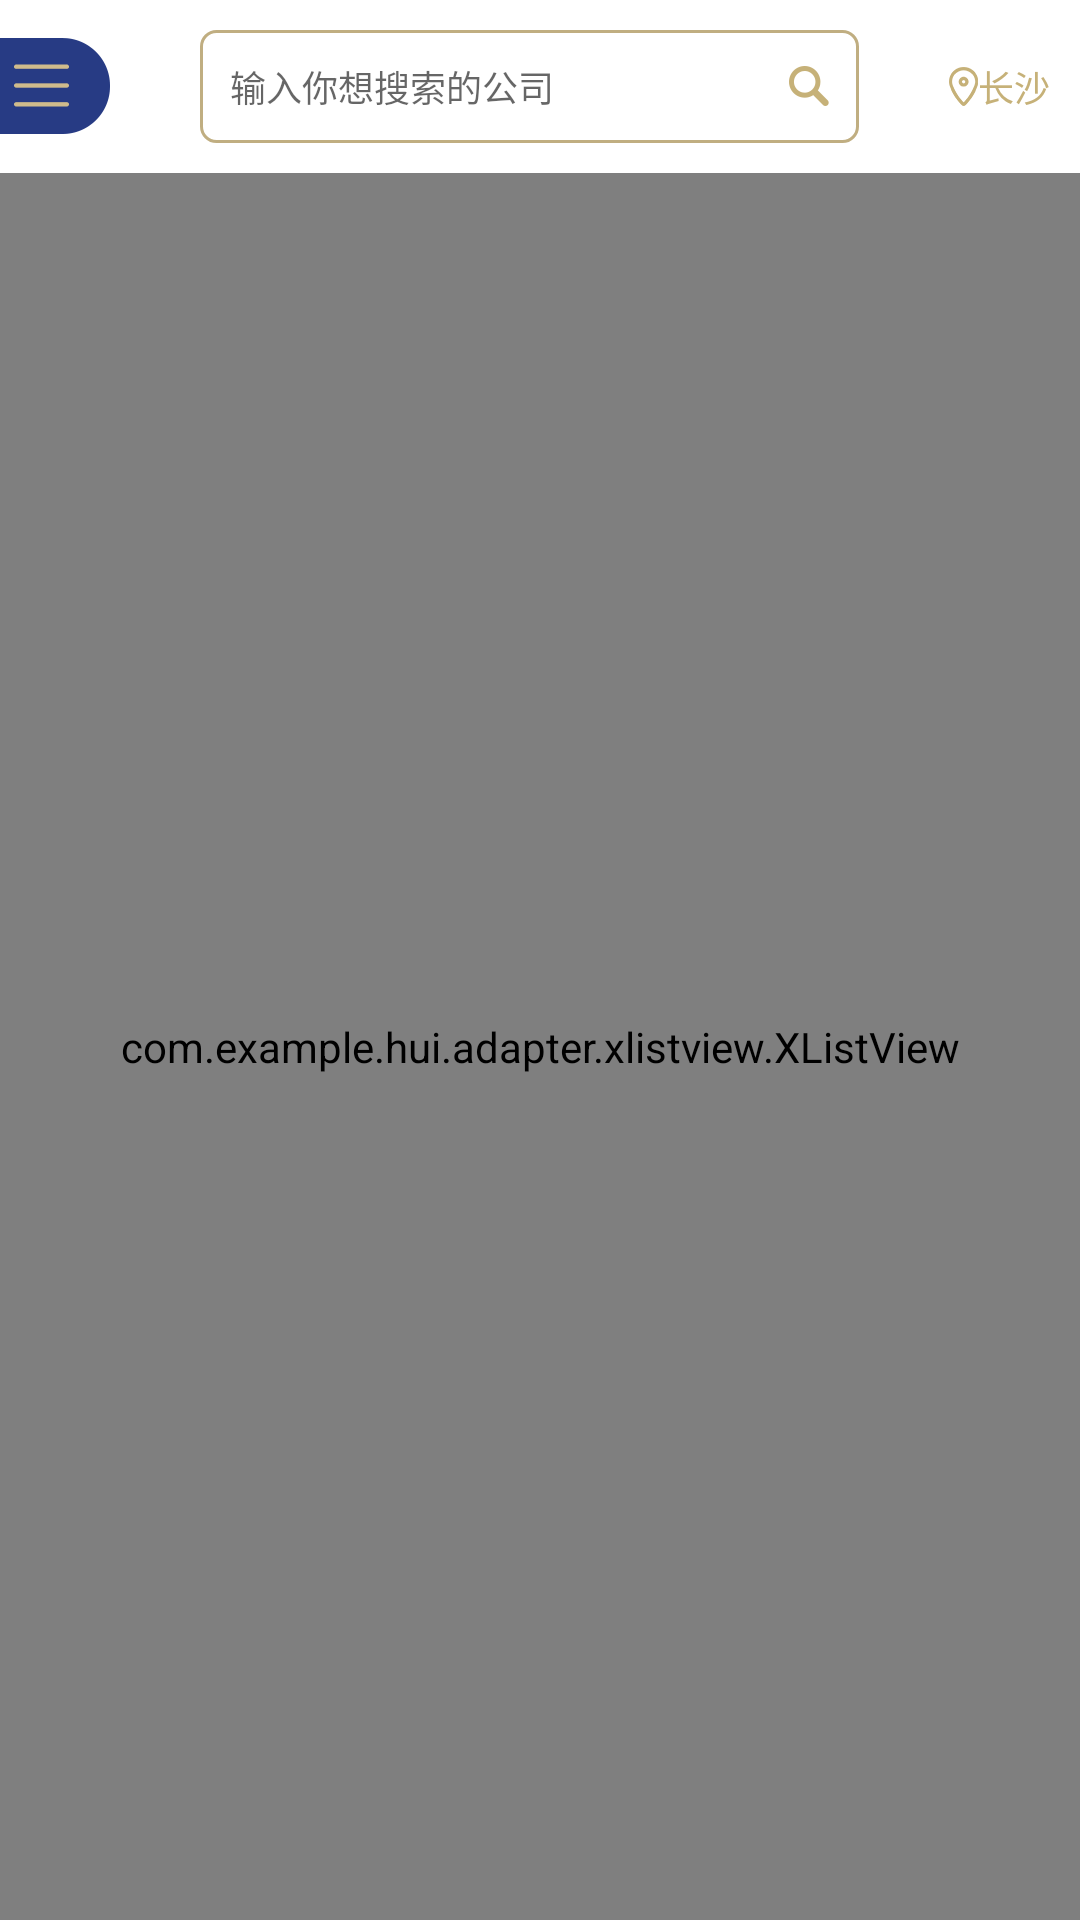

Where icons sit on this 1080px×1920px app screen, as (x1, y1, x2, y2):
home menu toggle: (0, 38, 110, 134)
title search: (789, 66, 829, 106)
